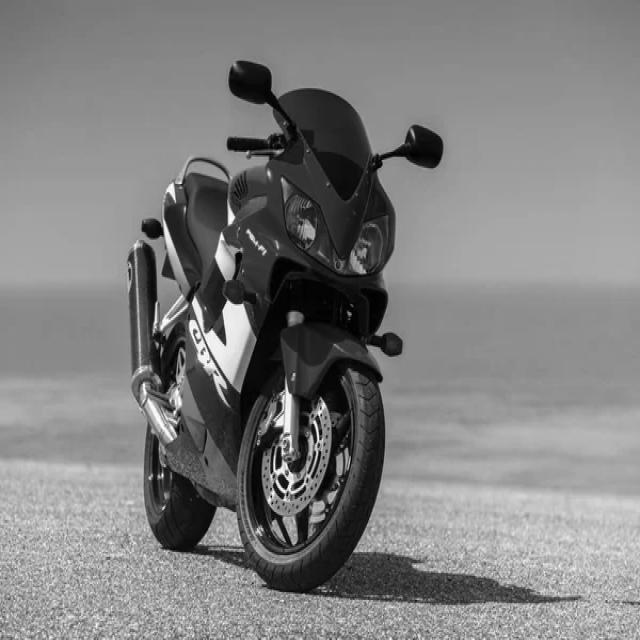Motorcycle: (127, 61, 444, 592)
